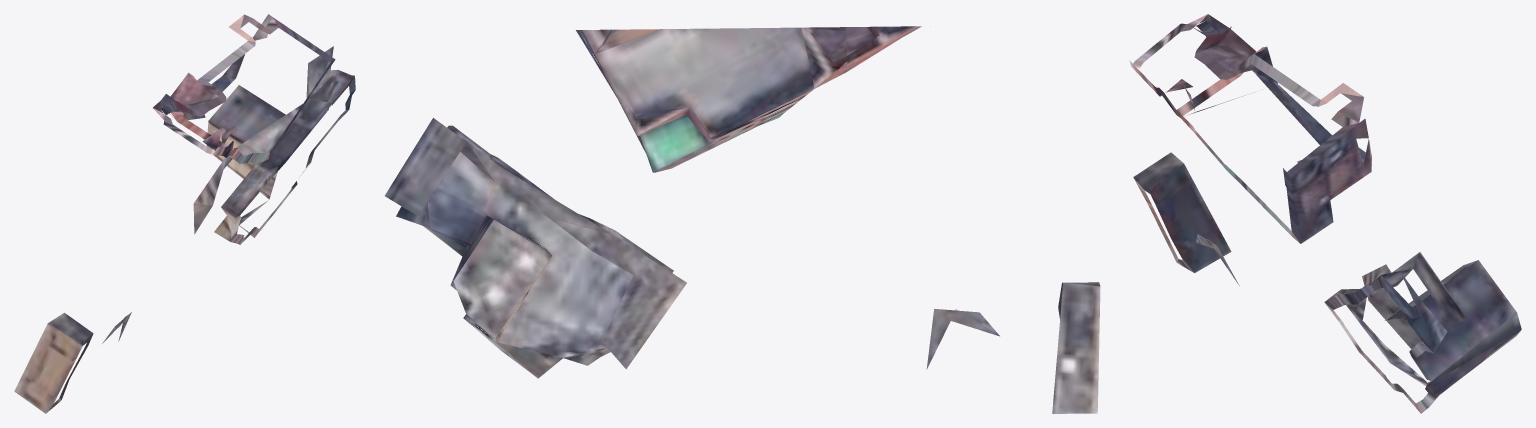
3 views of the same model, side by side, from view 1: azimuth 30°, elevation 25°; view 2: azimuth 150°, elevation 25°; view 3: azimuth 270°, elevation 25° (orthographic). The views are drawn at different scales.
Bounding box in the file's own units: 49.9 × 30.6 × 33.32.
1 material, 1 textured.
